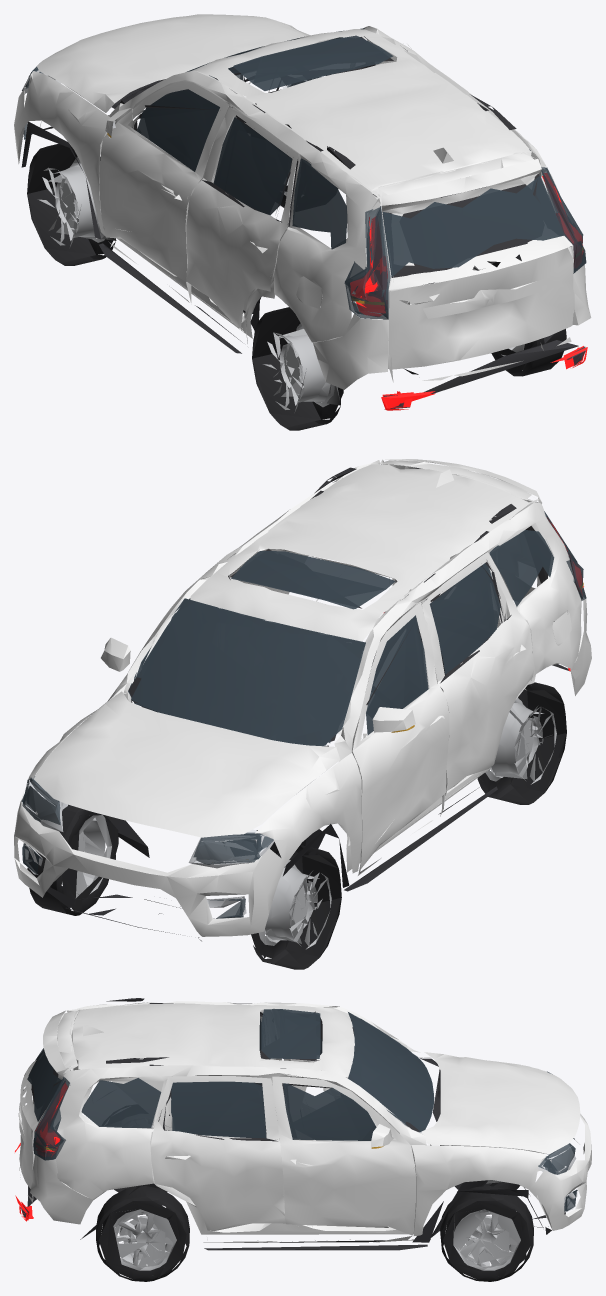
Rendered from scorpio_n.glb.
3 renders of one model, top to bottom at view 1: azimuth 30°, elevation 25°; view 2: azimuth 150°, elevation 25°; view 3: azimuth 270°, elevation 25°, orthographic. The views are drawn at different scales.
Parts seen in each view (by area): view 1: lod0_shell, lod1_shell, wheel_rl, wheel_fl, wheel_rr; view 2: lod0_shell, lod1_shell, wheel_fl, wheel_rl, wheel_fr; view 3: lod0_shell, lod1_shell, wheel_rr, wheel_fr.
Boxes of the visible parts, left/top/right/bottom form: lod0_shell: left=14, top=14, right=591, bottom=410; lod1_shell: left=22, top=37, right=587, bottom=427; wheel_rl: left=252, top=307, right=343, bottom=430; wheel_fl: left=27, top=143, right=115, bottom=265; wheel_rr: left=487, top=254, right=566, bottom=376; lod0_shell: left=14, top=459, right=591, bottom=941; lod1_shell: left=21, top=478, right=580, bottom=967; wheel_fl: left=251, top=845, right=341, bottom=969; wheel_rl: left=477, top=682, right=566, bottom=804; wheel_fr: left=27, top=804, right=118, bottom=915; lod0_shell: left=15, top=998, right=591, bottom=1250; lod1_shell: left=17, top=1010, right=576, bottom=1277; wheel_rr: left=96, top=1186, right=189, bottom=1281; wheel_fr: left=440, top=1186, right=533, bottom=1281.
Size of the model in its own units: 2.17 by 1.84 by 4.62.
